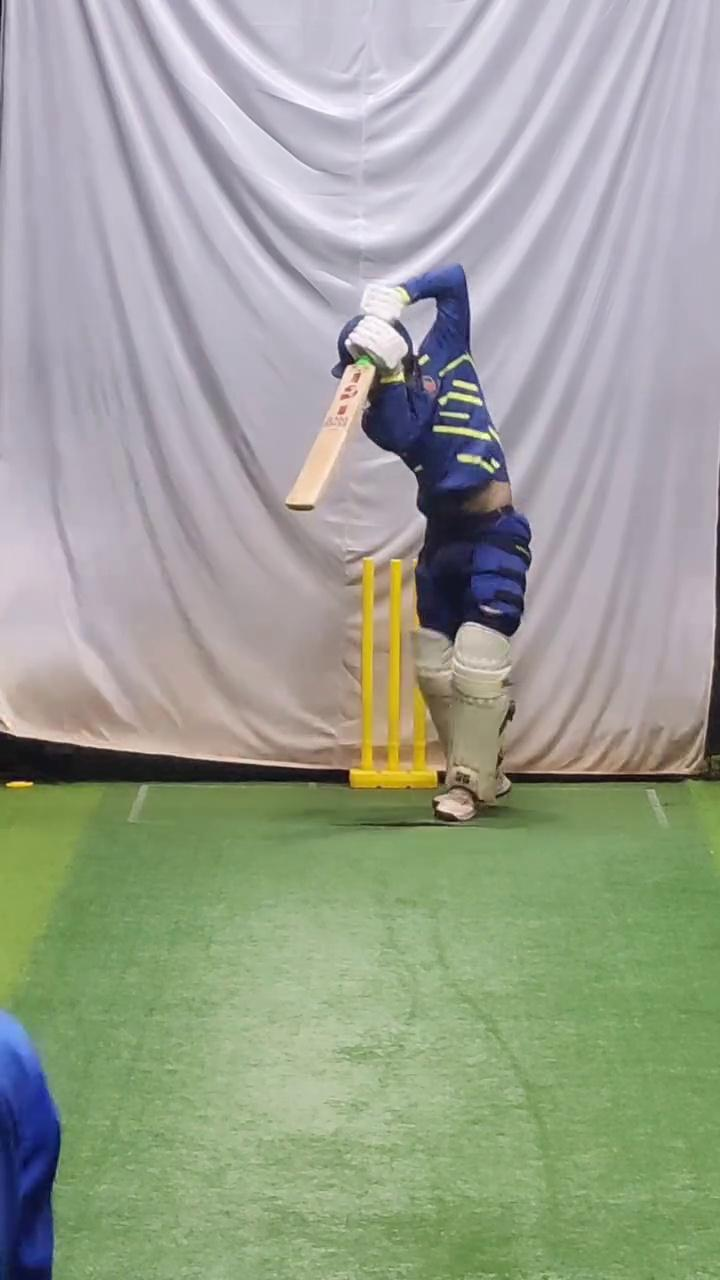bat: (280, 351, 378, 522)
